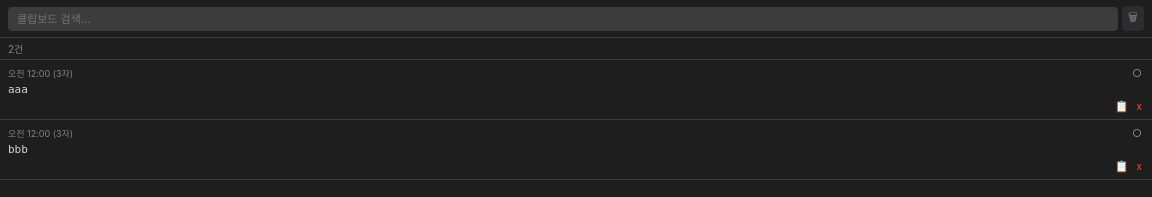
Test: ClipboardPanel › 검색창에서 ESC 입력 시 검색어가 초기화된다
Type "aaa" into the field with placeholder "클립보드 검색..." at (563, 18), box [8, 6, 1118, 30]
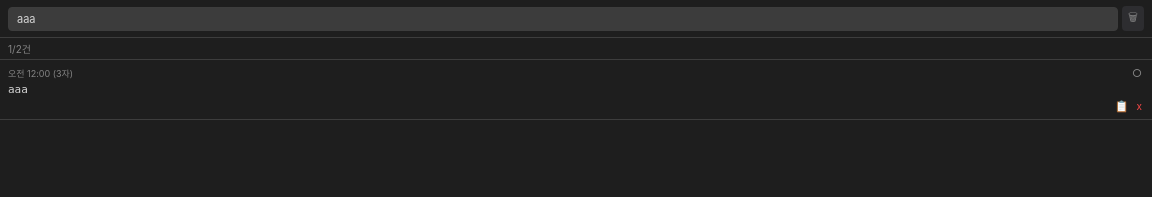
Now the text "bbb" is gone
Press Escape in the field with placeholder "클립보드 검색...", box [8, 6, 1118, 30]
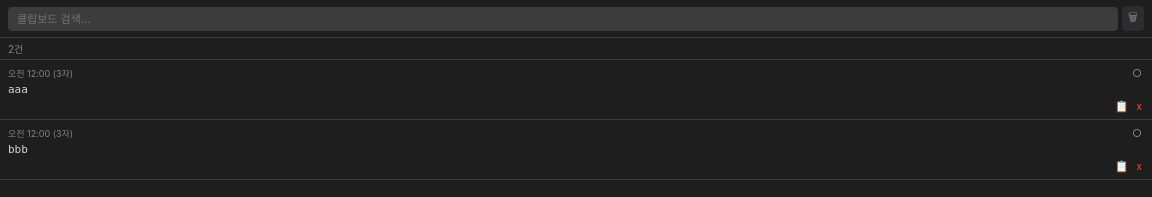
Now the text "bbb" is shown, box [8, 143, 28, 156]
